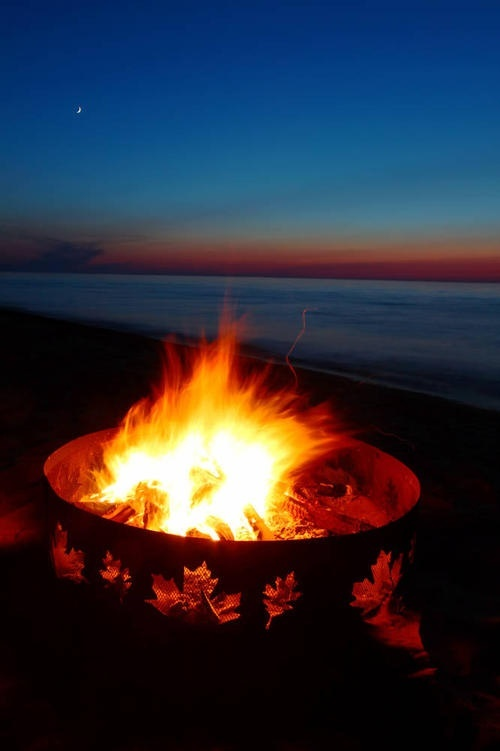fire: (83, 316, 325, 540)
